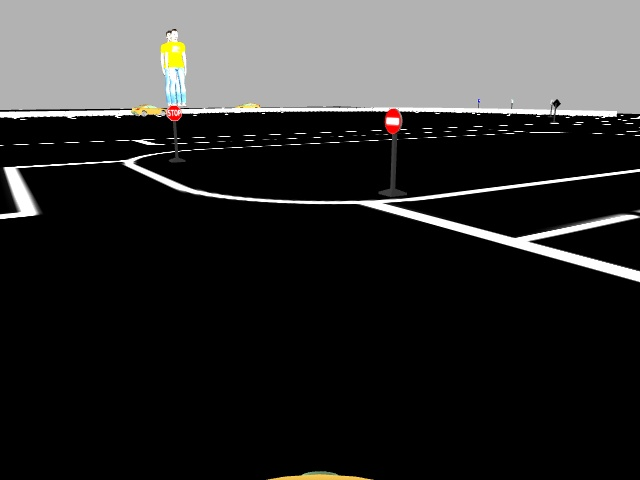NoEntry: (382, 109, 401, 133)
Stop: (165, 105, 181, 122)
